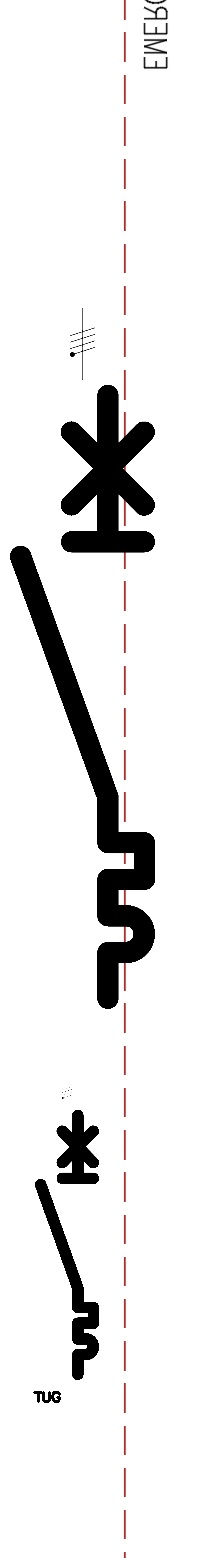interruptor_termomagnetico: (5, 379, 160, 1013), (34, 1108, 100, 1380)
